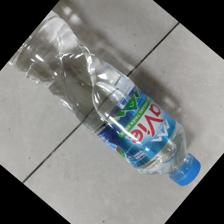Lavie: (1, 1, 202, 187)
